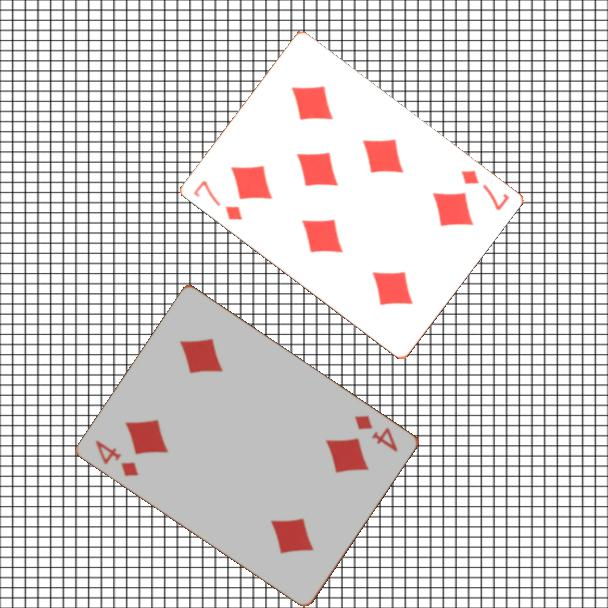d04: (351, 411, 401, 455), (92, 437, 142, 479)
d07: (457, 166, 512, 214), (189, 177, 245, 223)
